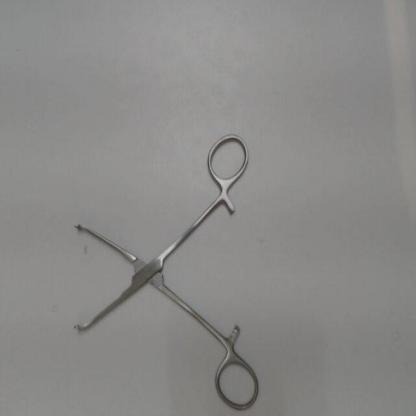Allis Tissue Forceps: (70, 129, 263, 412)
